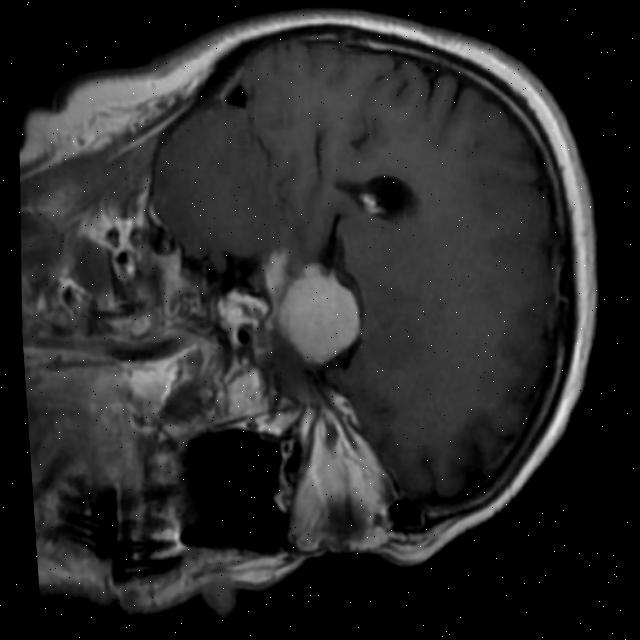Meningioma: (272, 260, 366, 368)
